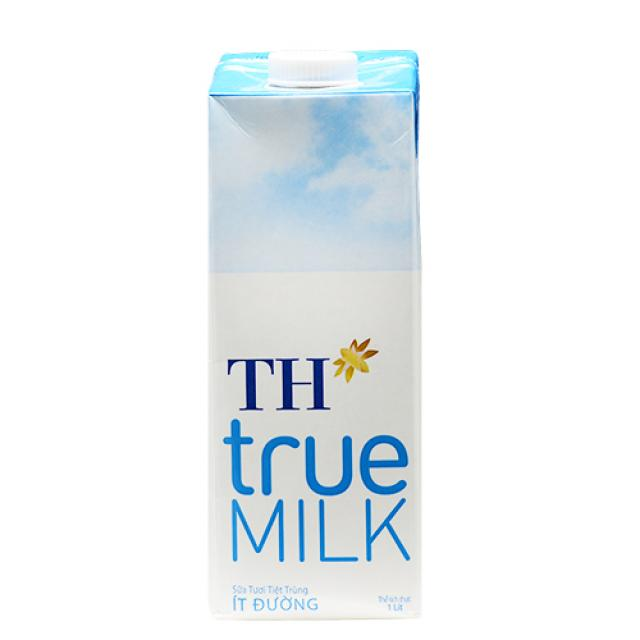non_white_jug: (180, 33, 447, 632)
